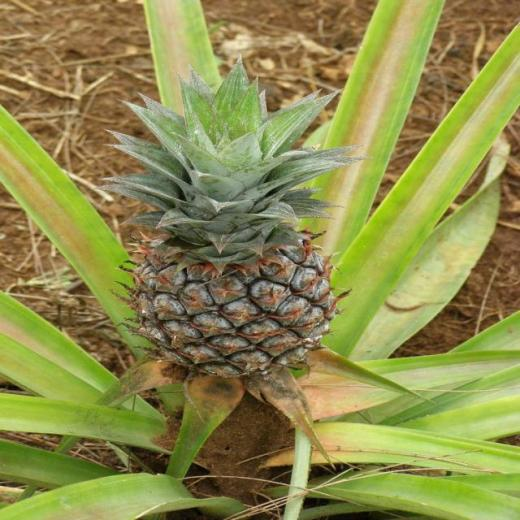Mango: (94, 51, 372, 380)
